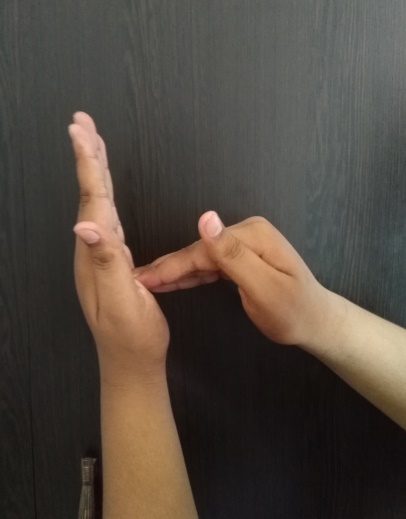ga: (66, 104, 323, 374)
